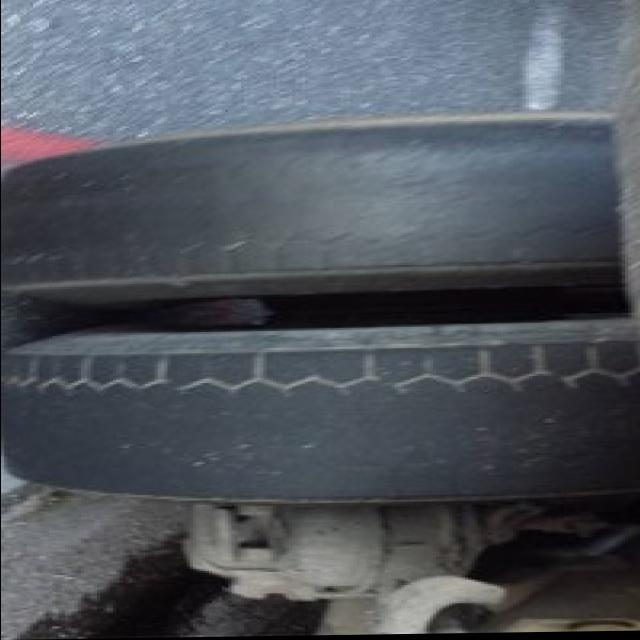Flat spots: (6, 120, 640, 477)
